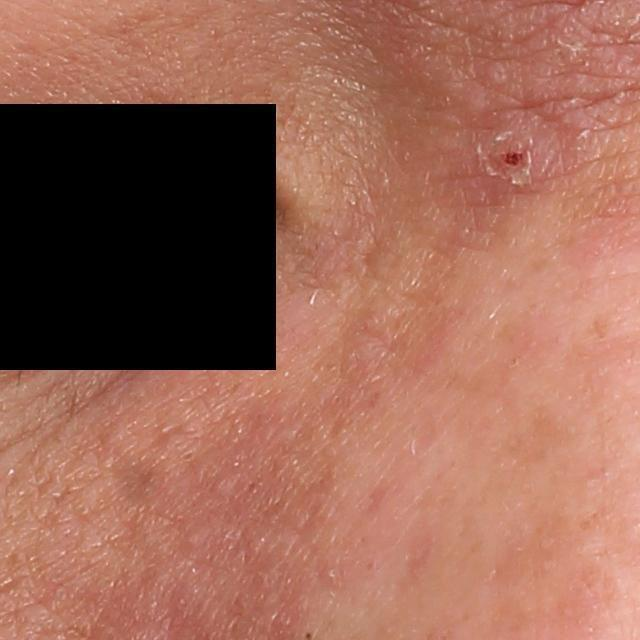papule: (488, 116, 554, 192)
